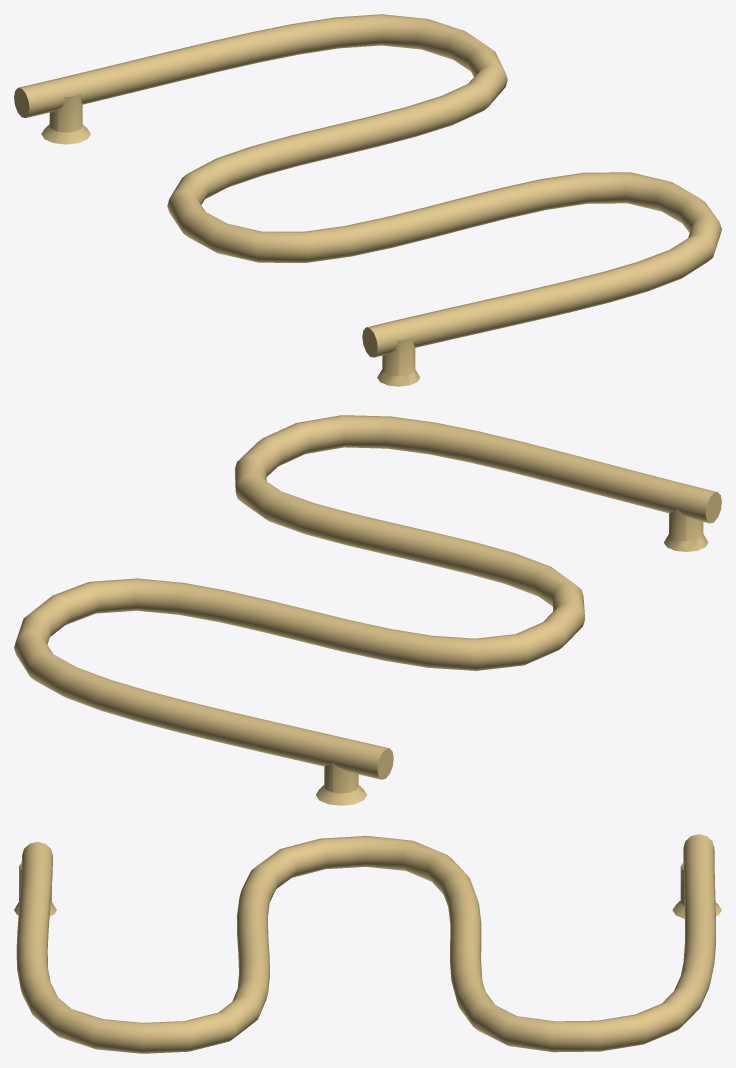
The picture shows the model from 3 angles, top to bottom: view 1: azimuth 30°, elevation 25°; view 2: azimuth 150°, elevation 25°; view 3: azimuth 270°, elevation 25°; orthographic projection. The views are drawn at different scales.
Visible parts, largest first — view 1: Circle.001; view 2: Circle.001; view 3: Circle.001.
Boxes of the visible parts, <box> form: Circle.001: <box>14,14,721,386</box>; Circle.001: <box>14,415,721,805</box>; Circle.001: <box>14,834,721,1053</box>.
Size of the model in its own units: 25.27 by 3.23 by 37.78.
